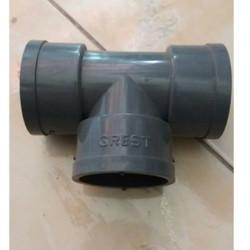PVC: (20, 39, 232, 190)
